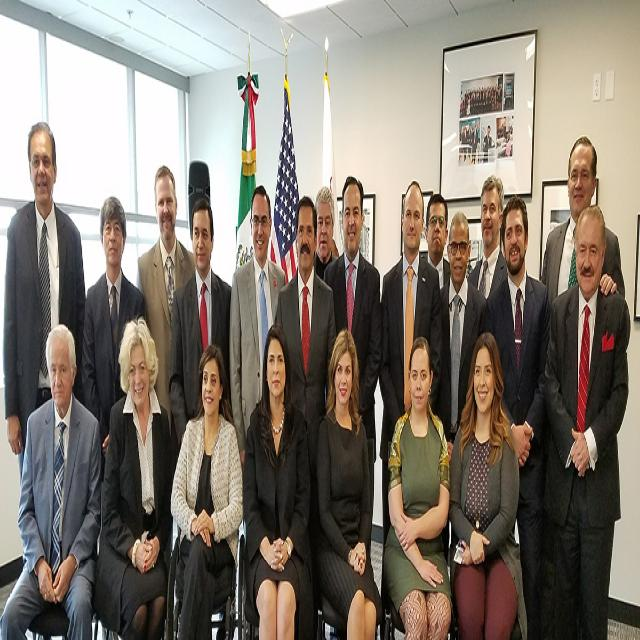body: (542, 199, 631, 639), (475, 192, 552, 638), (0, 320, 103, 638), (0, 121, 87, 485), (377, 176, 442, 638), (90, 310, 175, 638), (275, 193, 337, 640), (446, 329, 528, 639), (241, 318, 320, 638), (168, 340, 245, 638), (315, 318, 386, 638), (385, 332, 457, 638), (80, 194, 148, 483), (438, 208, 487, 604), (228, 183, 288, 482), (323, 173, 382, 464), (168, 194, 233, 451), (136, 164, 197, 437), (540, 138, 627, 308), (457, 72, 516, 165), (467, 170, 507, 300), (420, 193, 451, 291), (312, 184, 340, 283), (330, 222, 340, 261)
